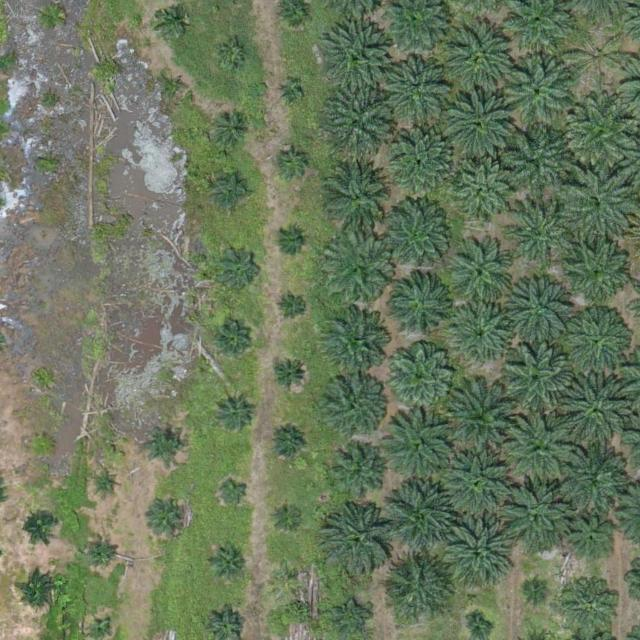Kelapa_Sawit: (444, 379, 522, 457), (318, 501, 396, 579), (498, 476, 568, 547), (441, 447, 511, 518), (385, 413, 455, 484), (384, 341, 454, 412), (319, 310, 389, 381), (324, 236, 394, 307), (560, 375, 630, 445), (552, 438, 622, 508), (505, 412, 575, 482), (440, 515, 510, 585), (385, 479, 455, 549), (380, 550, 450, 620), (322, 22, 392, 92), (322, 86, 392, 156), (322, 158, 392, 228), (446, 20, 516, 90), (444, 87, 514, 157), (499, 125, 569, 195), (504, 58, 574, 128), (564, 96, 634, 166), (562, 170, 632, 240), (559, 235, 629, 305), (504, 198, 574, 268), (501, 343, 571, 413), (380, 201, 450, 271), (566, 26, 628, 89), (391, 128, 453, 191), (389, 57, 451, 120), (452, 162, 514, 225), (565, 311, 627, 374), (507, 276, 569, 339), (450, 244, 512, 307), (323, 371, 385, 434), (450, 302, 512, 364), (390, 274, 452, 336), (561, 576, 616, 631), (329, 444, 384, 499), (564, 516, 610, 563), (216, 244, 262, 290), (152, 496, 191, 535), (145, 424, 184, 463), (213, 323, 252, 362), (206, 541, 245, 580), (270, 355, 309, 394), (21, 570, 59, 609), (20, 508, 58, 547), (213, 111, 251, 150), (212, 171, 250, 210), (214, 393, 252, 432), (331, 599, 369, 638), (267, 425, 305, 464), (153, 4, 184, 35), (217, 39, 248, 70), (277, 147, 308, 178), (271, 498, 302, 529), (271, 559, 302, 590), (218, 474, 249, 505), (85, 535, 116, 566), (275, 224, 306, 255), (277, 291, 308, 322), (527, 579, 550, 602), (95, 472, 118, 495), (164, 75, 187, 98), (279, 81, 302, 104), (31, 434, 54, 457)
